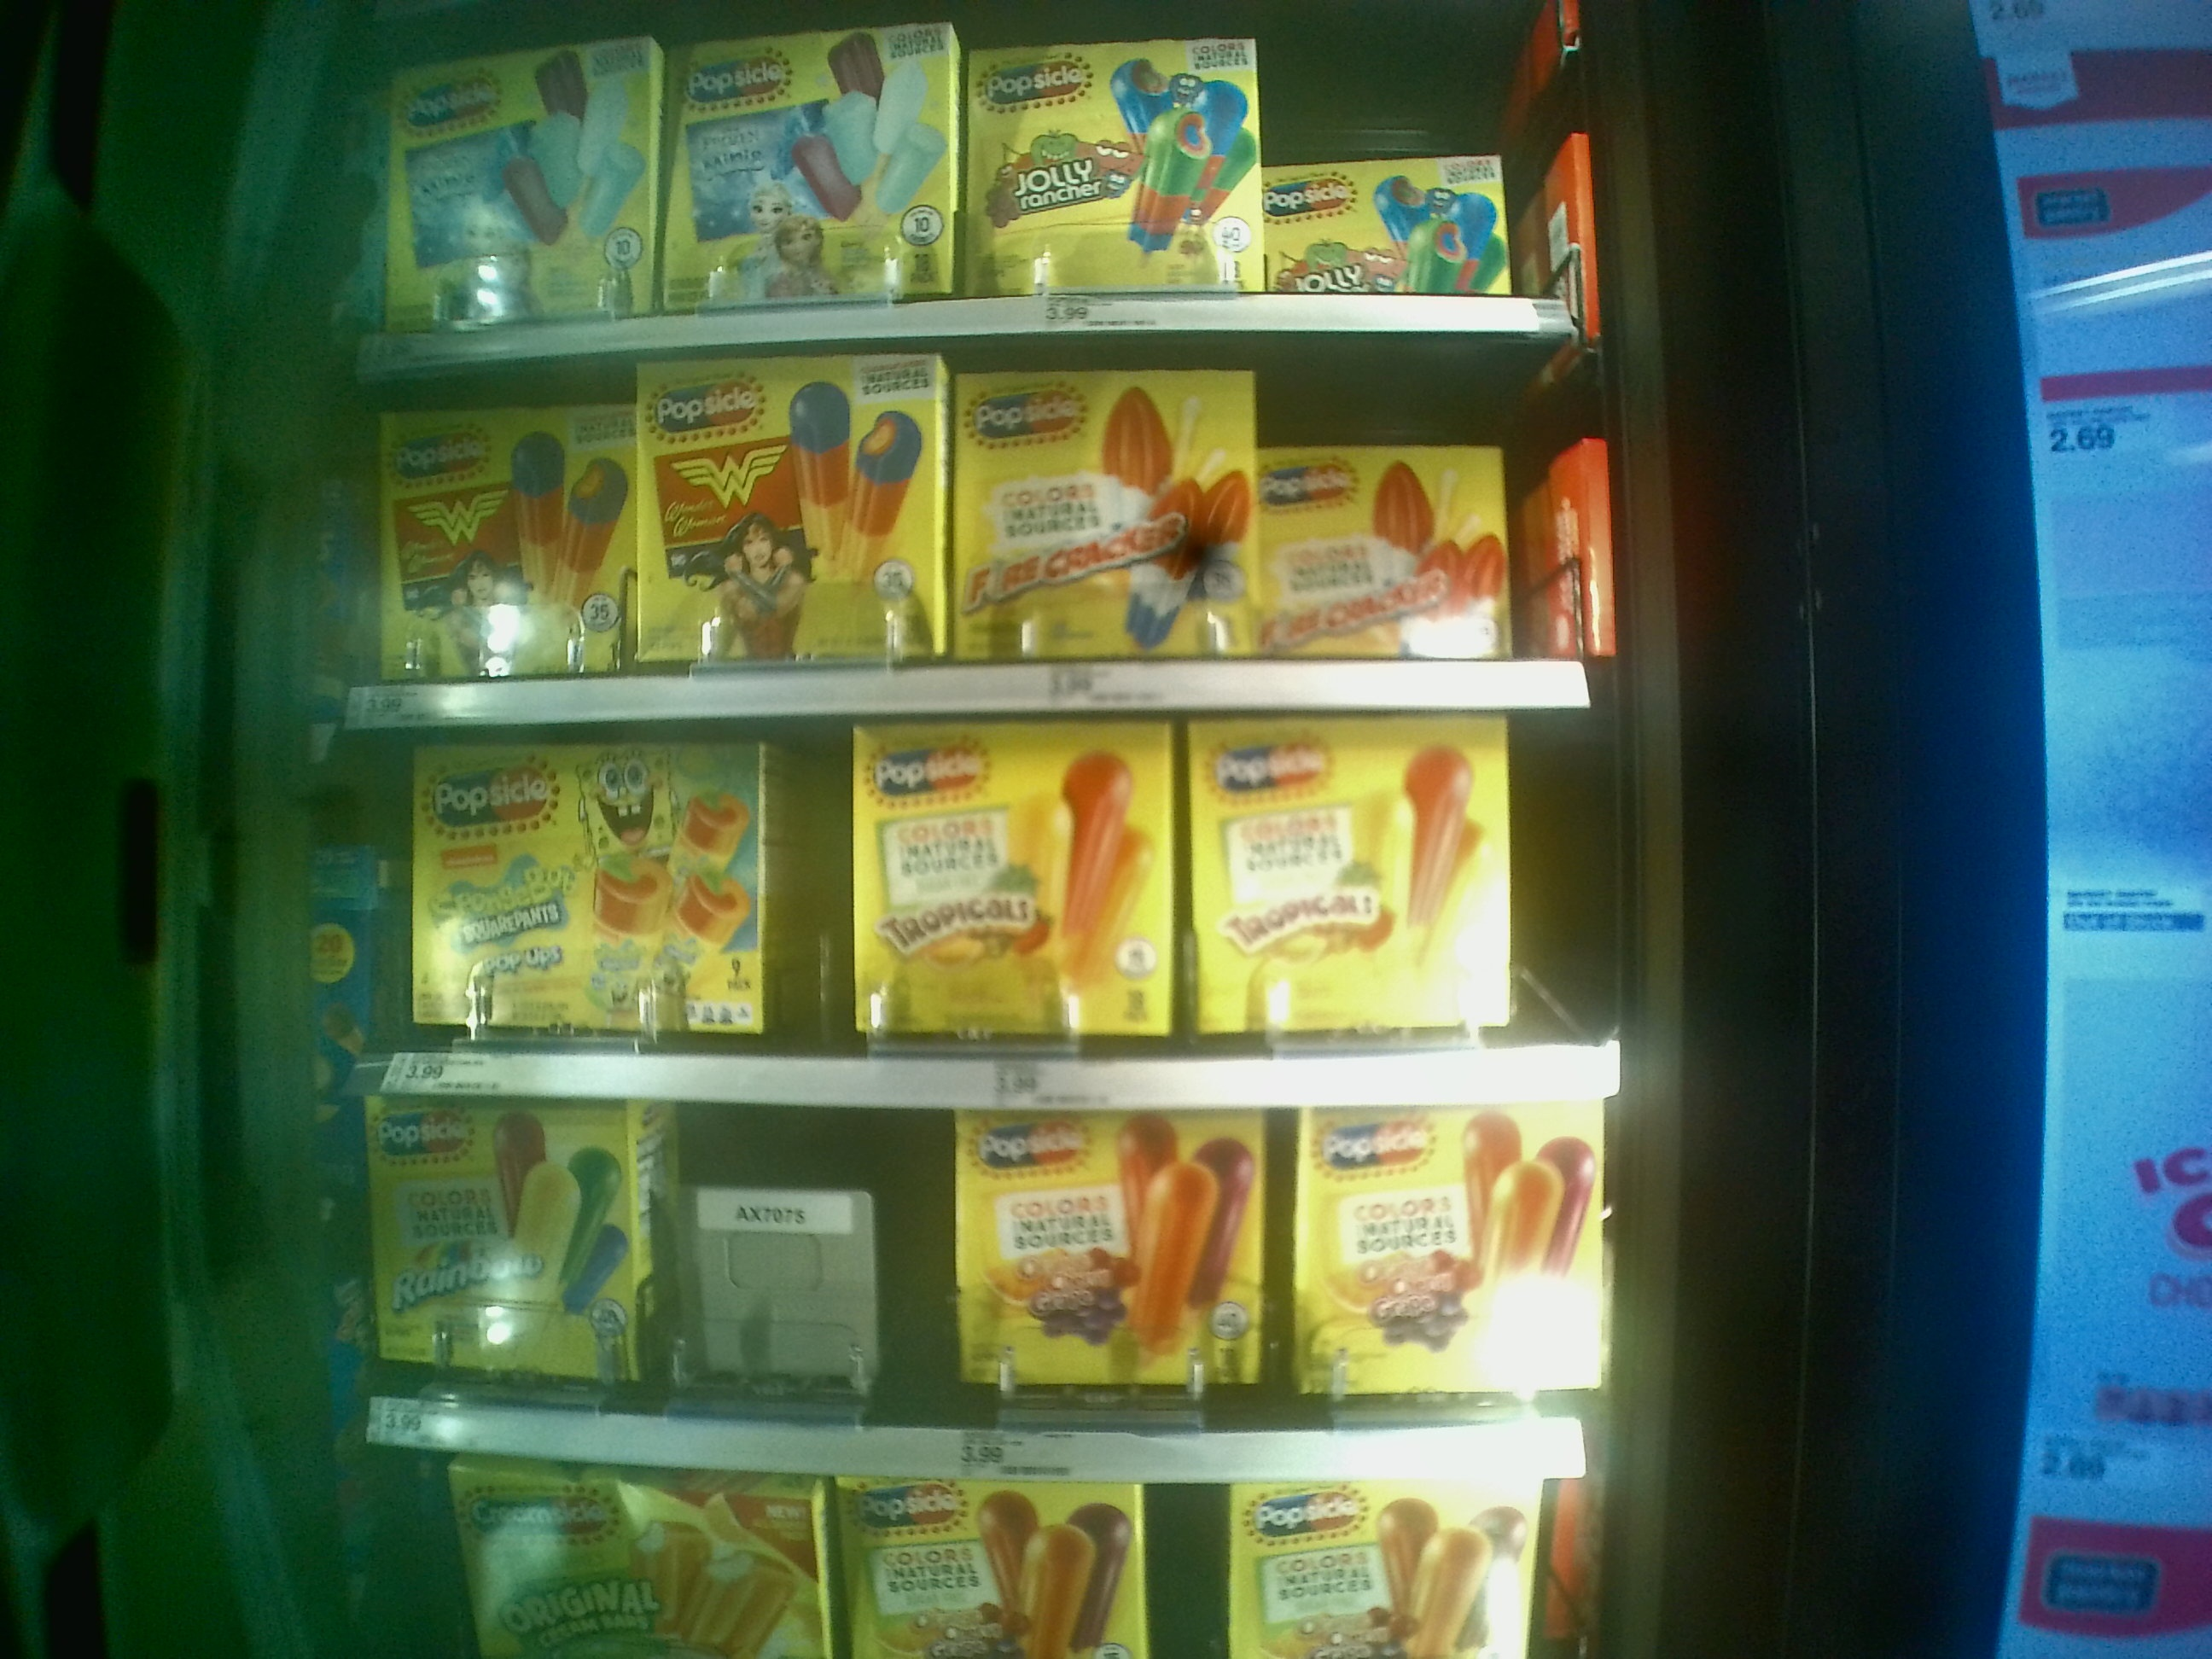frozen-food-shelf: (331, 728, 1627, 1119), (331, 1110, 1630, 1481), (331, 369, 1588, 728)
